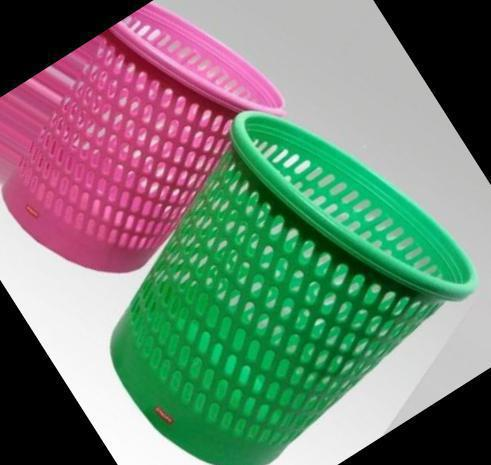Bote de Basura: (32, 51, 491, 465), (0, 0, 321, 309)
